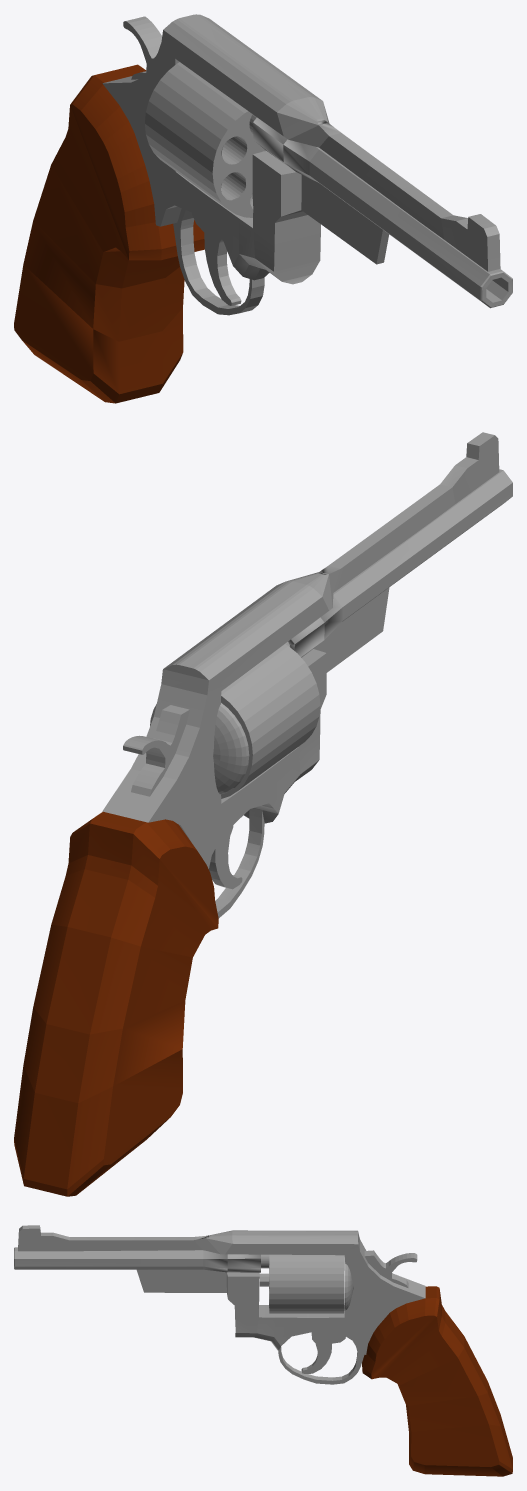
The model's file is SimpleRevolver.fbx.
3 renders of one model, top to bottom at view 1: azimuth 30°, elevation 25°; view 2: azimuth 150°, elevation 25°; view 3: azimuth 270°, elevation 25°, orthographic. The views are drawn at different scales.
Visible parts, largest first — view 1: handle, metal_case, chamber, barrel, guard, trigger, safety; view 2: handle, metal_case, chamber, barrel, safety, chambercap, guard, trigger; view 3: metal_case, handle, barrel, chamber, safety, guard, trigger, chambercap.
Boxes of the visible parts, <box> form: handle: <box>14,64,204,403</box>; metal_case: <box>102,14,500,284</box>; chamber: <box>145,62,266,217</box>; barrel: <box>253,117,512,308</box>; guard: <box>173,208,264,315</box>; trigger: <box>192,213,241,305</box>; safety: <box>123,16,162,79</box>; handle: <box>14,811,218,1196</box>; metal_case: <box>102,432,499,868</box>; chamber: <box>150,644,320,798</box>; barrel: <box>288,469,512,657</box>; safety: <box>123,705,189,796</box>; chambercap: <box>213,703,249,794</box>; guard: <box>215,808,264,918</box>; trigger: <box>209,825,242,889</box>; metal_case: <box>18,1225,425,1354</box>; handle: <box>362,1286,512,1476</box>; barrel: <box>14,1247,260,1272</box>; chamber: <box>269,1254,343,1313</box>; safety: <box>364,1250,417,1287</box>; guard: <box>278,1341,364,1384</box>; trigger: <box>301,1332,345,1373</box>; chambercap: <box>344,1255,353,1310</box>.
Size of the model in its own units: 54.12 by 220 by 409.
